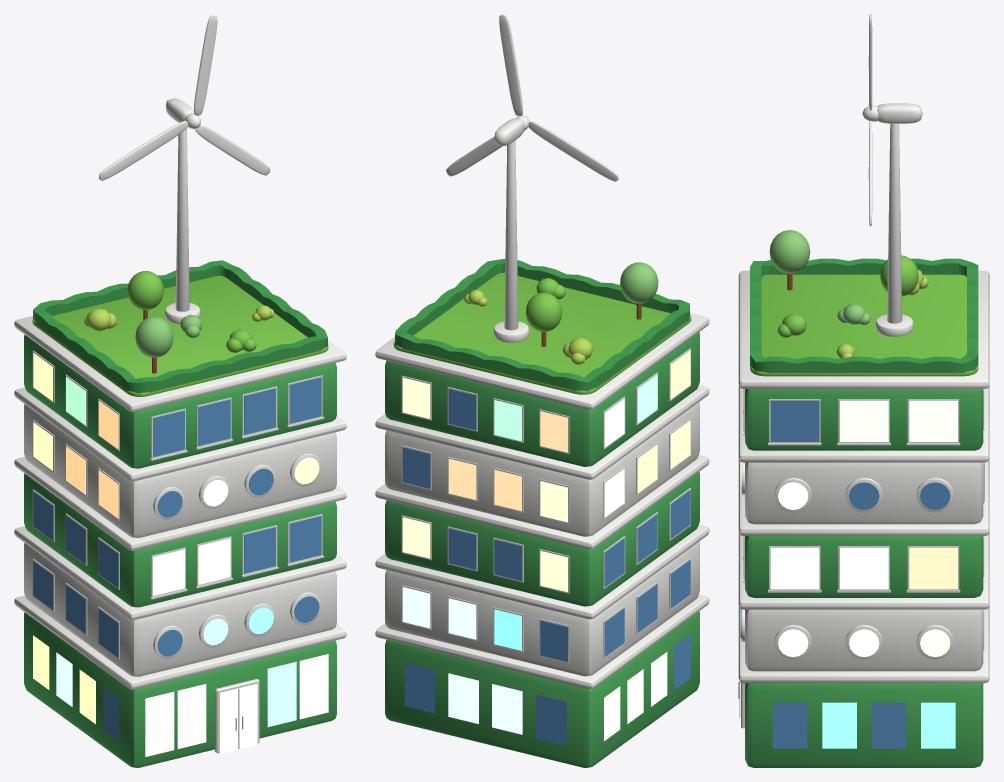
File: predio_turbina_eolica.glb
3 views of the same model, side by side, from view 1: azimuth 30°, elevation 25°; view 2: azimuth 150°, elevation 25°; view 3: azimuth 270°, elevation 25° (orthographic). The views are drawn at different scales.
Parts seen in each view (by area): view 1: predio_turbina_eolica; view 2: predio_turbina_eolica; view 3: predio_turbina_eolica.
Part boxes in pixels (x1,y1,x2,y2): predio_turbina_eolica: (14,14,346,767); predio_turbina_eolica: (375,14,709,767); predio_turbina_eolica: (738,14,989,767).
Bounding box in the file's own units: 10.5 × 31.42 × 9.92.
Materials: 7 (1 with a texture image).
